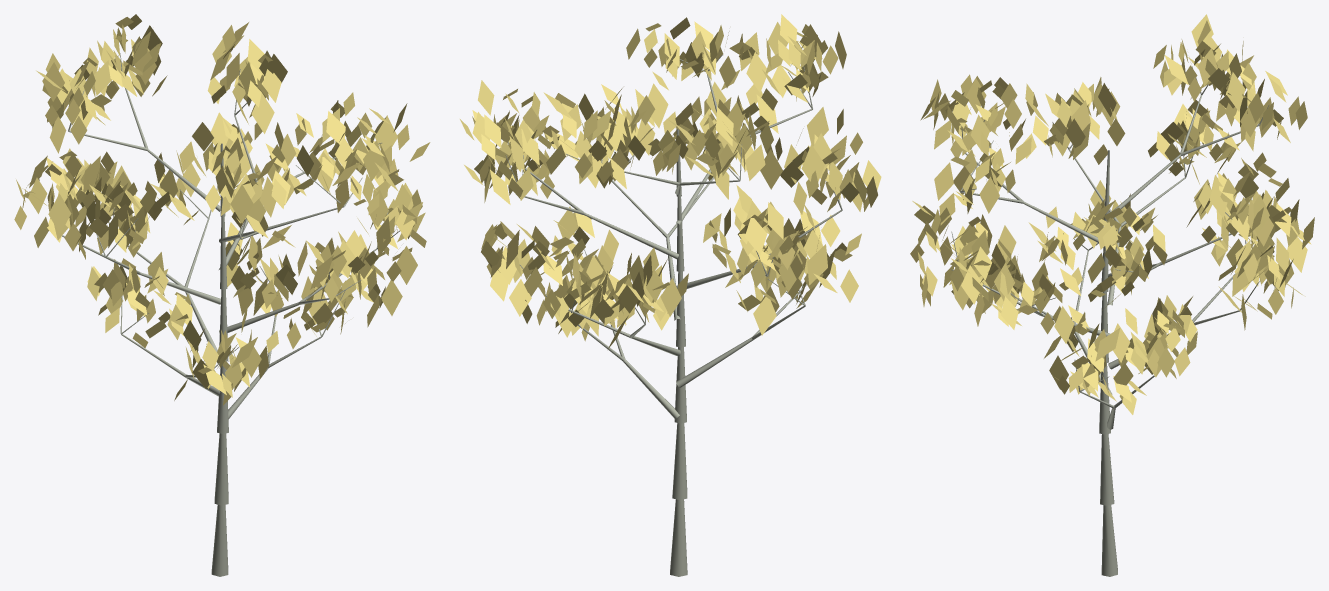
File: yellow-tree.glb
3 views of the same model, side by side, from view 1: azimuth 30°, elevation 25°; view 2: azimuth 150°, elevation 25°; view 3: azimuth 270°, elevation 25° (orthographic). The views are drawn at different scales.
Visible parts, largest first — view 1: yellow-tree; view 2: yellow-tree; view 3: yellow-tree.
Part boxes in pixels (x1,y1,x2,y2): yellow-tree: (14, 14, 430, 576); yellow-tree: (460, 14, 881, 576); yellow-tree: (910, 14, 1314, 576).
Bounding box in the file's own units: 4549 × 5853 × 4260.
